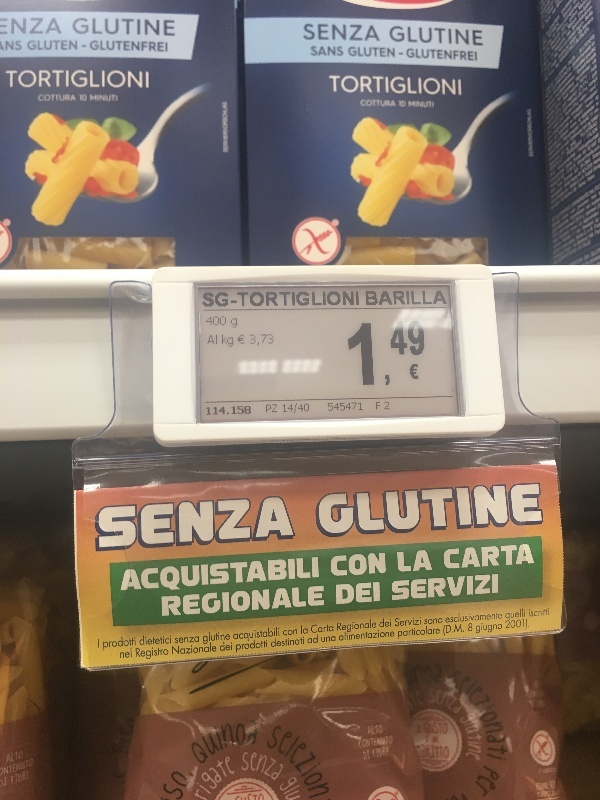text: (449, 666, 464, 765), (465, 666, 480, 765), (481, 666, 496, 765), (497, 666, 512, 765), (273, 724, 288, 796), (289, 724, 304, 796), (305, 724, 320, 796), (529, 480, 545, 542), (353, 323, 368, 387), (369, 323, 384, 387), (97, 493, 112, 556), (113, 493, 128, 556), (129, 493, 144, 556), (145, 493, 160, 556), (161, 493, 176, 556), (177, 493, 192, 556), (193, 493, 208, 556), (209, 493, 224, 556), (225, 493, 240, 556), (241, 493, 256, 556), (257, 493, 272, 556), (273, 493, 288, 556), (321, 480, 336, 542), (337, 480, 352, 542), (353, 480, 368, 542), (369, 480, 384, 542), (385, 480, 400, 542), (401, 480, 416, 542), (417, 480, 432, 542), (433, 480, 448, 542), (449, 480, 464, 542), (465, 480, 480, 542), (481, 480, 496, 542), (497, 480, 512, 542), (513, 480, 528, 542), (193, 715, 208, 773), (209, 715, 224, 773), (225, 715, 240, 773), (241, 715, 256, 773), (321, 724, 332, 796), (193, 748, 208, 800), (209, 748, 224, 800), (305, 553, 321, 599), (129, 553, 144, 599), (145, 553, 160, 599), (161, 553, 176, 599), (177, 553, 192, 599), (193, 553, 208, 599), (209, 553, 224, 599), (225, 553, 240, 599), (241, 553, 256, 599), (257, 553, 272, 599), (273, 553, 288, 599), (289, 553, 304, 599), (225, 748, 238, 800), (289, 493, 299, 556), (449, 686, 465, 720), (161, 584, 176, 620), (177, 584, 192, 620), (193, 584, 208, 620), (209, 584, 224, 620), (225, 584, 240, 620), (241, 584, 256, 620), (257, 584, 272, 620), (273, 584, 288, 620), (289, 584, 304, 620), (305, 584, 320, 620), (385, 323, 393, 387), (401, 572, 416, 606), (417, 572, 432, 606), (433, 572, 448, 606), (449, 572, 464, 606), (465, 572, 480, 606), (481, 572, 496, 606), (241, 751, 256, 785), (257, 751, 272, 785), (433, 686, 448, 720), (401, 321, 416, 355), (337, 550, 352, 581), (353, 550, 368, 581), (369, 550, 384, 581), (449, 542, 464, 573), (465, 542, 480, 573), (481, 542, 496, 573), (497, 542, 512, 573), (513, 542, 528, 573), (417, 662, 432, 692), (266, 724, 272, 796), (273, 751, 285, 785), (401, 549, 416, 576), (417, 549, 432, 576), (337, 74, 352, 99), (353, 74, 368, 99), (369, 74, 384, 99), (385, 74, 400, 99), (401, 74, 416, 99), (417, 74, 432, 99), (433, 74, 448, 99), (337, 581, 352, 606), (353, 581, 368, 606), (353, 730, 368, 755), (369, 730, 384, 755), (120, 553, 128, 599), (17, 755, 32, 779), (449, 74, 463, 99), (401, 24, 416, 47), (417, 24, 432, 47), (433, 24, 448, 47), (449, 24, 464, 47), (465, 24, 480, 47), (390, 572, 400, 606), (209, 627, 224, 649), (433, 662, 444, 692), (289, 633, 305, 653), (347, 323, 352, 387), (305, 22, 320, 43), (321, 22, 336, 43), (337, 22, 352, 43), (353, 22, 368, 43), (369, 288, 384, 309), (385, 288, 400, 309), (401, 288, 416, 309), (417, 288, 432, 309), (433, 288, 448, 309), (417, 744, 432, 765), (433, 744, 448, 765), (433, 719, 448, 740), (3, 755, 16, 779), (315, 480, 320, 542), (417, 321, 426, 355), (369, 722, 385, 741), (17, 16, 32, 36), (33, 16, 48, 36), (369, 581, 381, 606), (241, 625, 256, 645), (257, 625, 272, 645), (273, 633, 288, 653), (81, 18, 96, 37), (97, 18, 112, 37), (113, 18, 128, 37), (17, 70, 32, 89), (33, 70, 48, 89), (49, 70, 64, 89), (65, 70, 80, 89), (81, 70, 96, 89), (97, 70, 112, 89), (113, 70, 128, 89), (129, 70, 144, 89), (113, 637, 128, 656), (241, 638, 256, 657), (337, 617, 352, 636), (353, 617, 368, 636), (369, 746, 384, 765), (49, 16, 63, 36), (225, 100, 230, 155), (145, 647, 160, 665), (353, 627, 368, 645), (369, 627, 384, 645), (449, 623, 464, 641), (513, 606, 527, 625), (529, 107, 534, 160), (257, 333, 272, 350), (513, 617, 528, 634), (389, 24, 400, 47), (338, 627, 352, 645), (385, 730, 395, 755), (145, 634, 160, 650), (401, 616, 416, 632), (401, 627, 416, 643), (417, 627, 432, 643), (481, 622, 496, 638), (529, 606, 544, 622), (209, 292, 224, 308), (241, 291, 256, 307), (257, 291, 272, 307), (273, 291, 288, 307), (289, 291, 304, 307), (305, 291, 320, 307), (321, 291, 336, 307), (337, 291, 352, 307), (17, 769, 30, 787), (369, 22, 380, 43), (129, 18, 141, 37), (177, 644, 192, 659), (193, 644, 208, 659), (449, 612, 464, 627), (465, 612, 480, 627), (481, 612, 496, 627), (417, 47, 432, 62), (433, 47, 448, 62), (449, 47, 464, 62), (329, 550, 336, 581), (529, 542, 536, 573), (209, 404, 224, 418), (225, 404, 240, 418), (177, 634, 192, 648), (321, 623, 335, 638), (5, 70, 16, 89), (257, 638, 268, 657), (307, 633, 320, 649), (328, 74, 336, 99), (385, 627, 396, 645), (321, 45, 336, 58), (289, 402, 304, 415), (97, 40, 112, 53), (113, 40, 128, 53), (129, 40, 144, 53), (145, 40, 160, 53), (161, 634, 173, 650), (102, 637, 112, 656), (97, 92, 112, 104), (337, 401, 352, 413), (369, 97, 384, 109), (321, 584, 326, 620), (97, 639, 112, 651), (468, 621, 480, 636), (410, 662, 416, 692), (353, 46, 368, 58), (369, 46, 384, 58), (465, 47, 477, 62), (321, 635, 337, 646), (345, 730, 352, 755), (7, 748, 16, 767), (369, 617, 378, 636), (424, 719, 432, 740), (49, 93, 64, 104), (209, 315, 224, 326), (417, 99, 432, 110), (221, 100, 224, 155), (135, 647, 144, 665), (161, 647, 170, 665), (273, 625, 281, 645), (443, 542, 448, 573), (5, 39, 16, 53), (241, 404, 252, 418), (225, 627, 232, 649), (433, 616, 444, 630), (119, 646, 128, 663), (129, 637, 137, 656), (310, 623, 320, 638), (33, 41, 48, 51), (49, 41, 64, 51), (385, 97, 397, 109), (233, 625, 240, 645), (428, 686, 432, 720), (209, 644, 218, 659), (225, 641, 234, 656), (407, 47, 416, 62), (73, 18, 80, 37), (17, 748, 24, 767), (505, 606, 512, 625), (361, 746, 368, 765), (65, 93, 77, 104), (353, 401, 364, 413), (202, 627, 208, 649), (310, 45, 320, 58), (289, 627, 299, 640), (65, 41, 78, 51), (433, 627, 441, 643), (209, 333, 218, 347), (225, 334, 234, 348), (94, 493, 96, 556), (385, 46, 395, 58), (409, 364, 416, 381), (505, 617, 512, 634), (257, 715, 259, 773), (385, 746, 391, 765), (193, 634, 201, 648), (385, 618, 393, 632), (424, 616, 432, 630), (38, 93, 48, 104), (327, 401, 336, 413), (359, 97, 368, 109), (10, 769, 16, 787), (526, 107, 528, 160), (497, 612, 504, 627), (250, 333, 256, 350), (497, 572, 500, 606), (397, 321, 400, 355), (11, 16, 16, 36), (231, 318, 240, 329), (513, 666, 514, 765), (394, 616, 400, 632), (497, 622, 503, 638), (353, 291, 359, 307), (145, 70, 150, 89), (235, 638, 240, 657), (385, 550, 388, 581), (337, 45, 344, 58), (161, 40, 168, 53), (443, 623, 448, 641), (376, 401, 384, 412), (408, 99, 416, 110), (17, 39, 23, 53), (113, 92, 120, 104), (364, 288, 368, 309), (397, 549, 400, 576), (139, 634, 144, 650), (417, 616, 422, 632), (475, 622, 480, 638), (545, 606, 550, 622), (203, 292, 208, 308), (282, 402, 288, 415), (282, 627, 288, 640), (90, 40, 96, 53), (219, 641, 224, 656), (417, 723, 422, 738), (90, 92, 96, 104), (385, 400, 391, 412), (81, 93, 88, 103), (241, 333, 246, 347), (379, 618, 384, 632), (481, 24, 484, 47), (129, 646, 133, 663), (305, 402, 310, 415), (225, 292, 229, 308), (266, 404, 272, 414), (172, 644, 176, 659), (191, 715, 192, 773), (300, 625, 304, 639), (305, 625, 309, 639), (191, 748, 192, 800), (273, 404, 278, 414), (401, 99, 406, 109), (397, 627, 400, 643), (445, 612, 448, 627), (81, 45, 96, 48), (205, 404, 208, 418), (270, 633, 272, 653), (28, 41, 32, 51), (349, 46, 352, 58), (231, 300, 240, 304), (273, 333, 275, 350), (417, 364, 419, 381), (238, 291, 240, 307), (222, 334, 224, 348), (238, 333, 240, 347), (433, 549, 434, 576), (33, 755, 34, 779), (206, 315, 208, 326), (225, 315, 227, 326), (433, 99, 435, 110), (303, 22, 304, 43), (449, 744, 450, 765), (449, 719, 450, 740), (367, 722, 368, 741), (465, 623, 466, 641), (207, 333, 208, 347), (175, 634, 176, 648), (79, 93, 80, 103), (399, 99, 400, 109), (401, 53, 403, 55), (399, 53, 400, 55)
